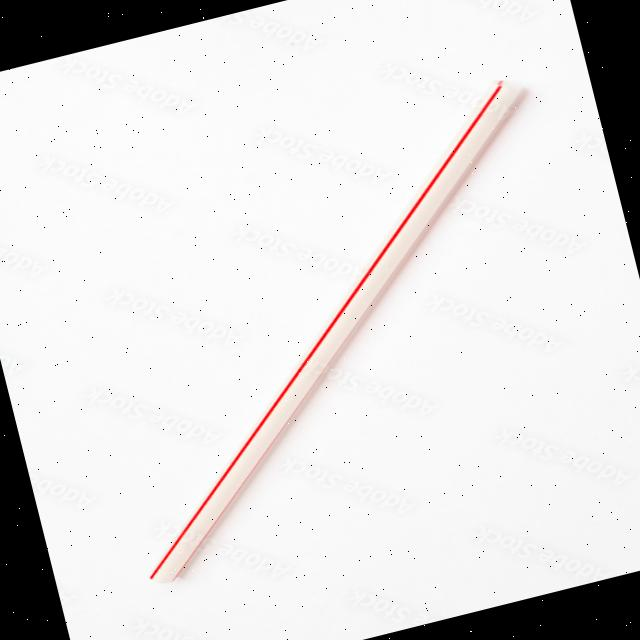plastic: (0, 74, 640, 611)
